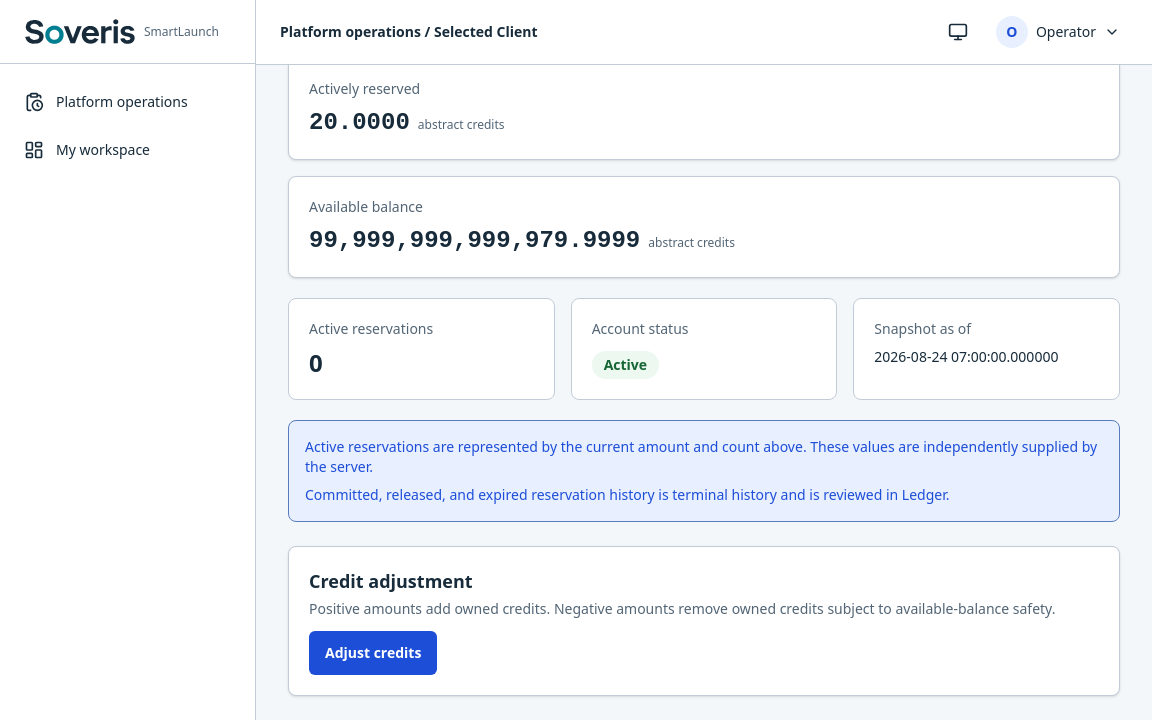
it: Billing account routes and states › fails the Account page closed when the adjustment endpoint denies live permission
(page scrolled)
Click the button "Adjust credits".
click(373, 653)  # box [309, 631, 437, 675]
(page scrolled)
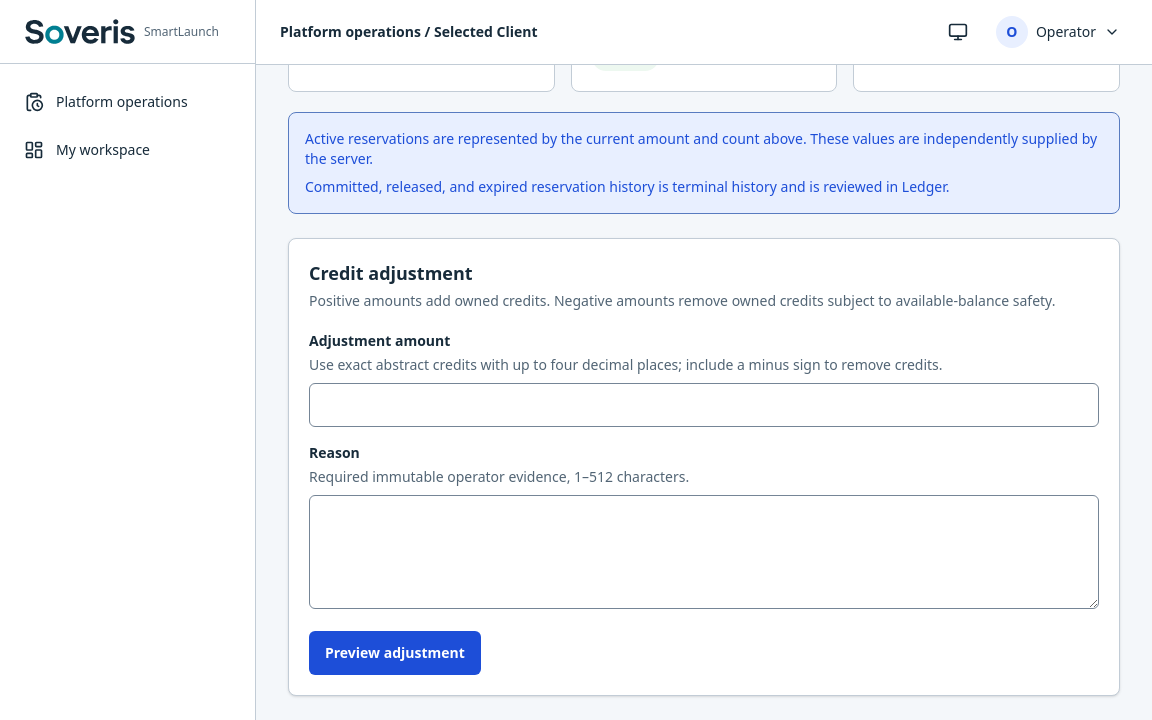
Type "-1.0000" into the field labelled "Adjustment amount".
click(704, 405); type("-1.0000")  # box [309, 383, 1099, 427]
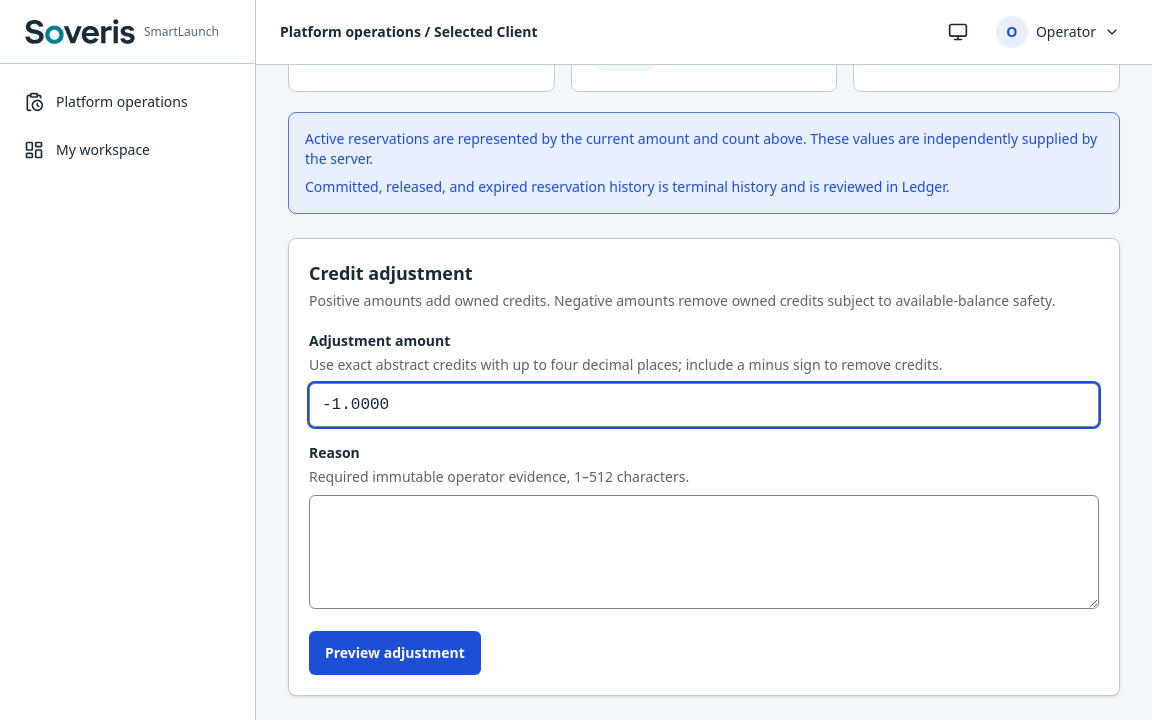
Type "Permission verification" into the text box labelled "Reason".
click(704, 552); type("Permission verification")  # box [309, 495, 1099, 609]
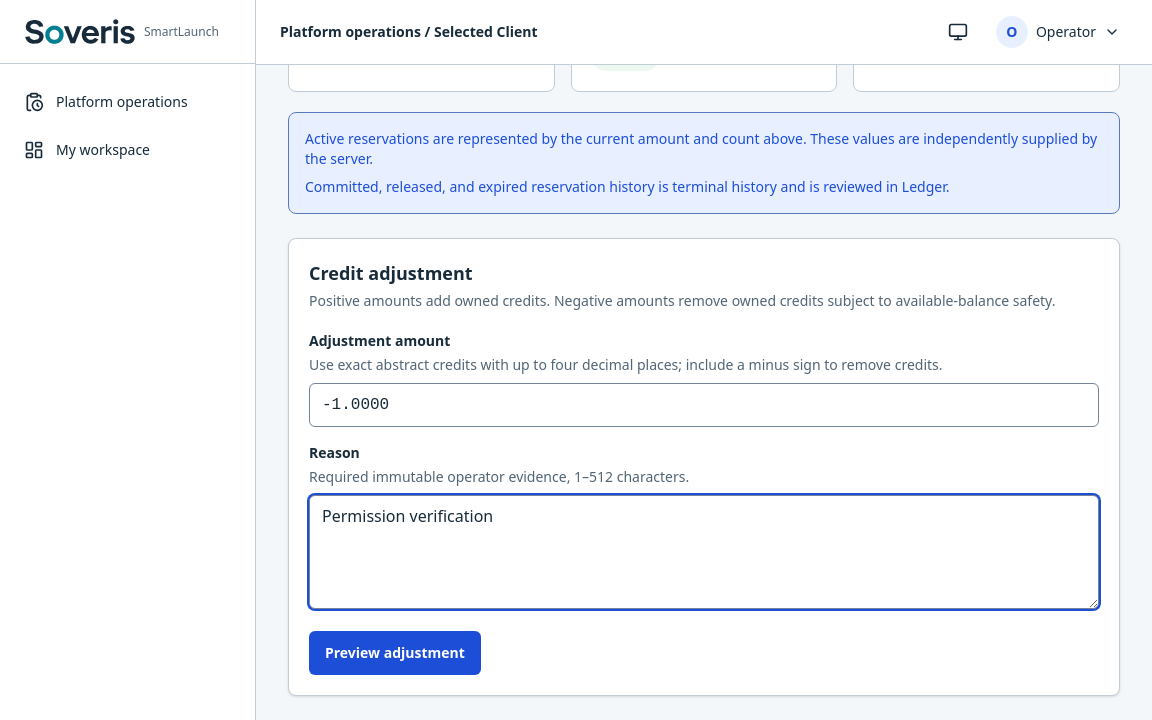
Click the button "Preview adjustment".
click(395, 653)  # box [309, 631, 481, 675]
(page scrolled)
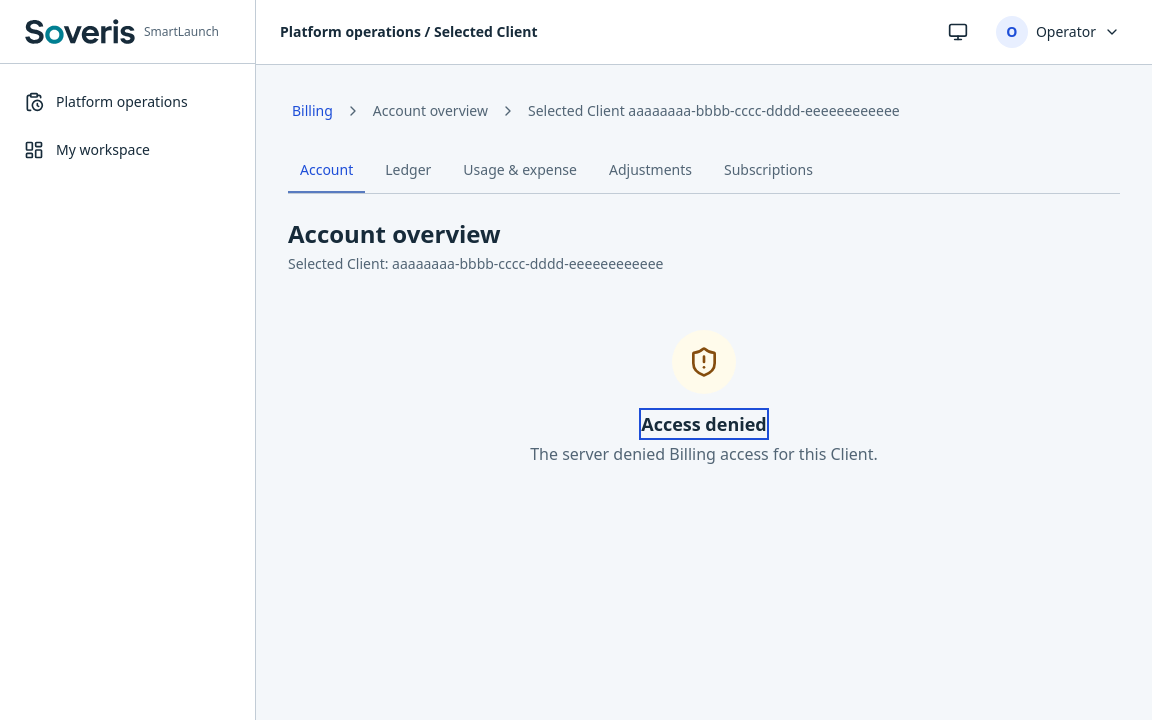
Expected: the button "Adjust credits" is not shown
Expected: the heading "Access denied" is shown, [641, 410, 767, 438]
